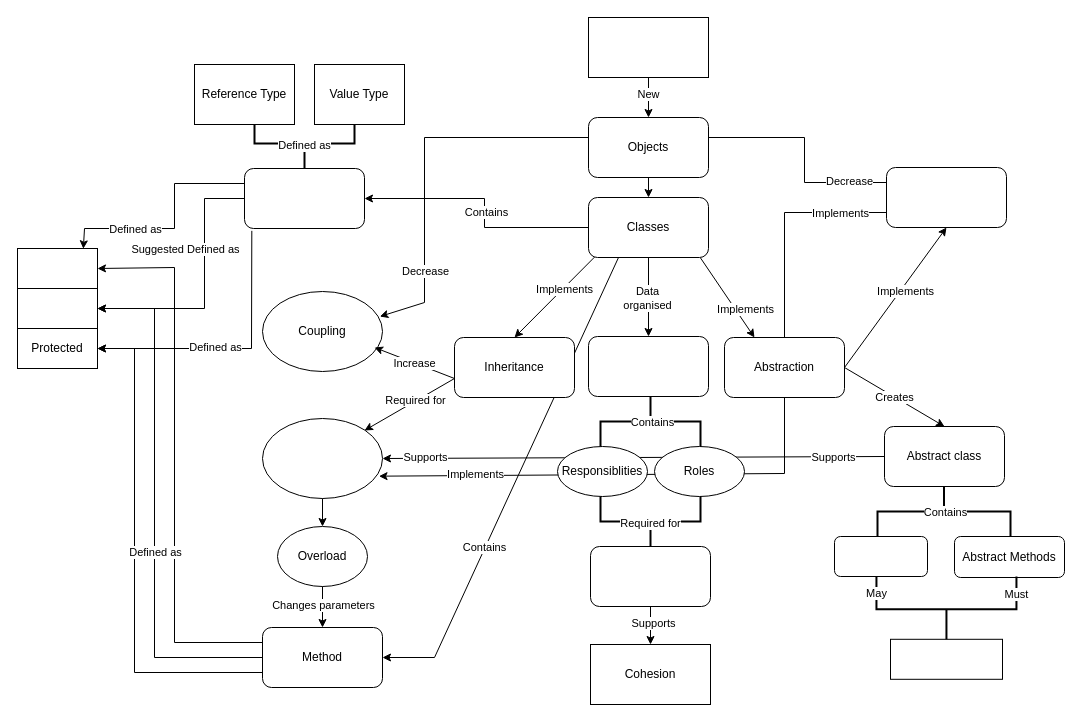
Some shapes in this 1082 by 722 pixel diagram are drawn without their labels. Here are the shapes that lost their labels. From the top down, the box of each, then its label:
(588, 16, 708, 78): Object Oriented Programming
(244, 168, 364, 228): Fields
(886, 166, 1006, 228): Interface
(16, 248, 98, 288): Public
(16, 288, 98, 328): Private
(588, 336, 708, 396): Encapsulation
(262, 418, 382, 498): Polymorphism
(590, 546, 710, 606): Collaborations
(834, 536, 928, 576): Virtual
(890, 638, 1002, 679): Override
